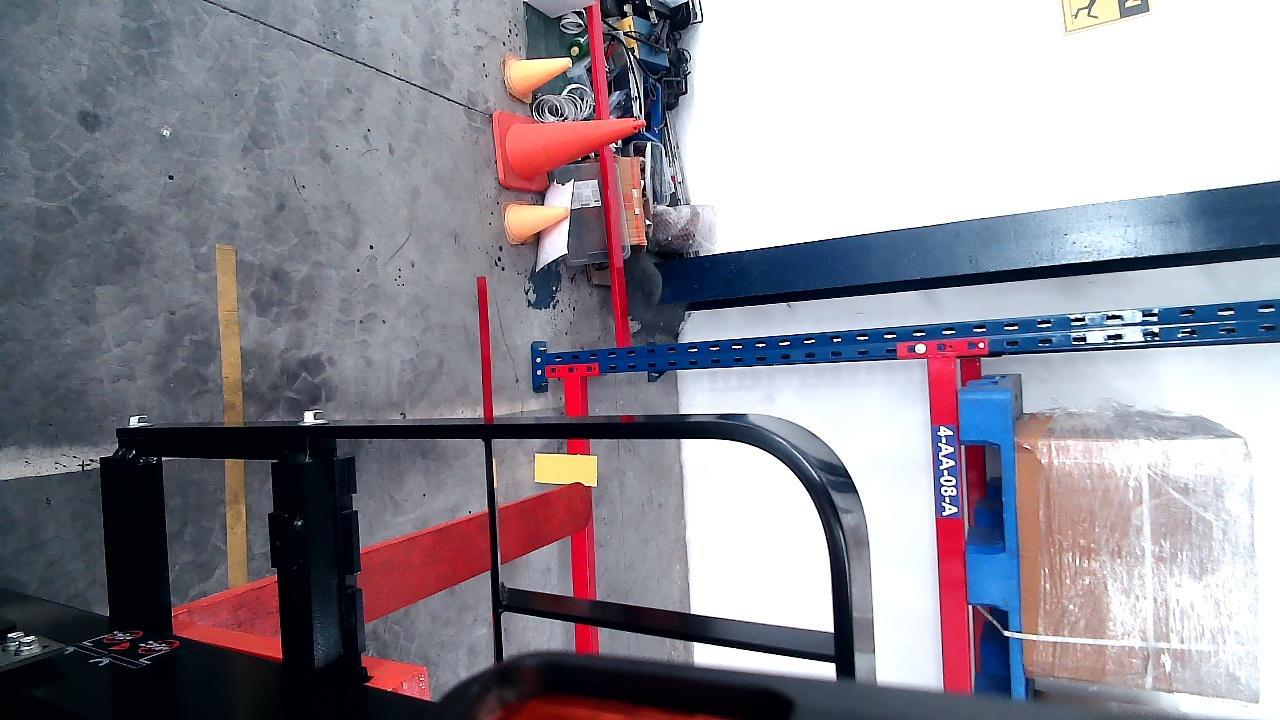red_line: (477, 280, 492, 417)
yellow_line: (218, 239, 248, 592)
